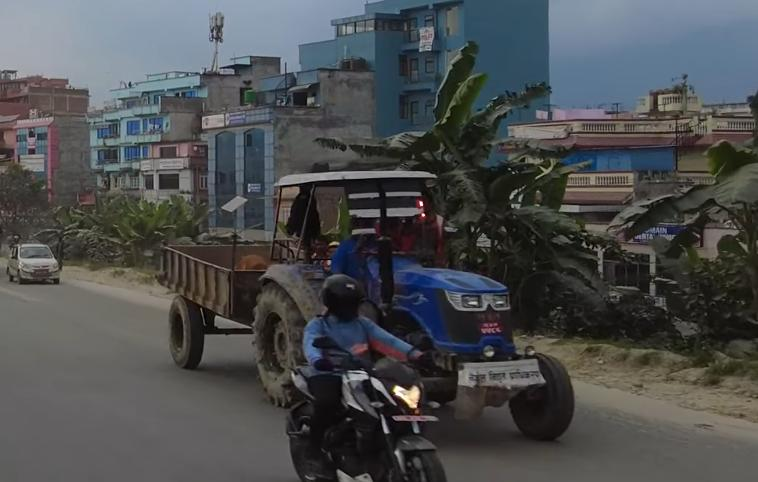bike: (276, 336, 456, 482)
car: (4, 242, 65, 287)
tractor: (149, 160, 583, 438)
